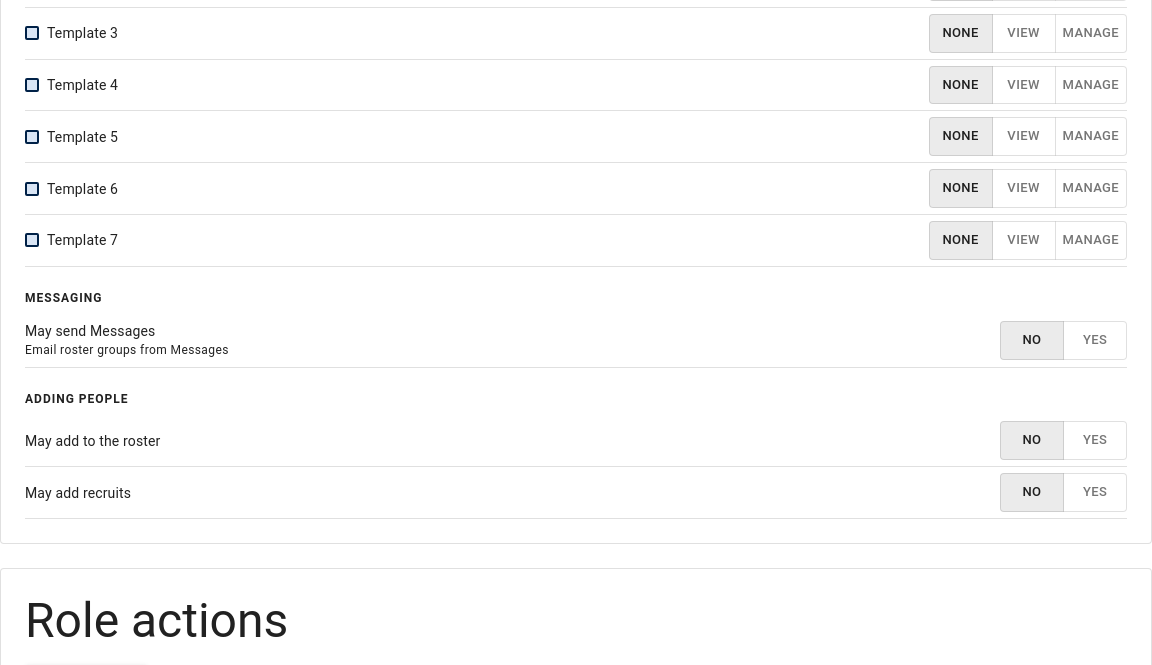
Scenario: one role's record › saves May send Messages on press and reads the outcome back
(page scrolled)
Click the button with test id "access-line-send_messages-yes": (1095, 341) [1063,321,1127,360]
(page scrolled)
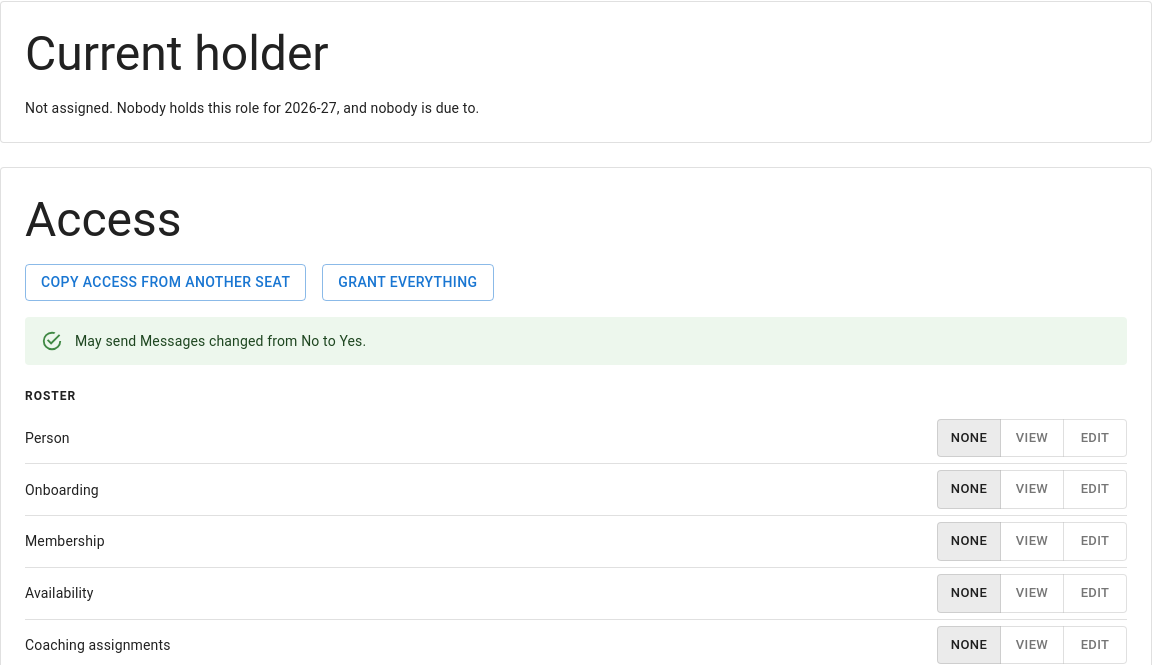
Result: the text "May send Messages changed from No to Yes." is shown at [75,333,366,349]
